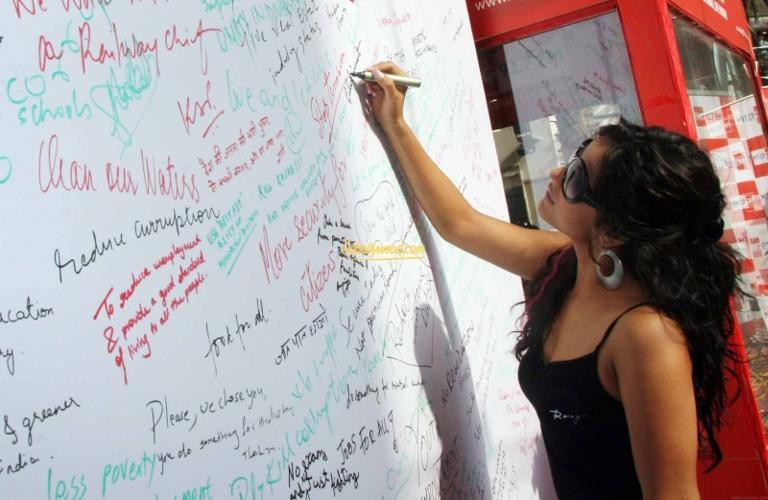person: (368, 62, 735, 500)
